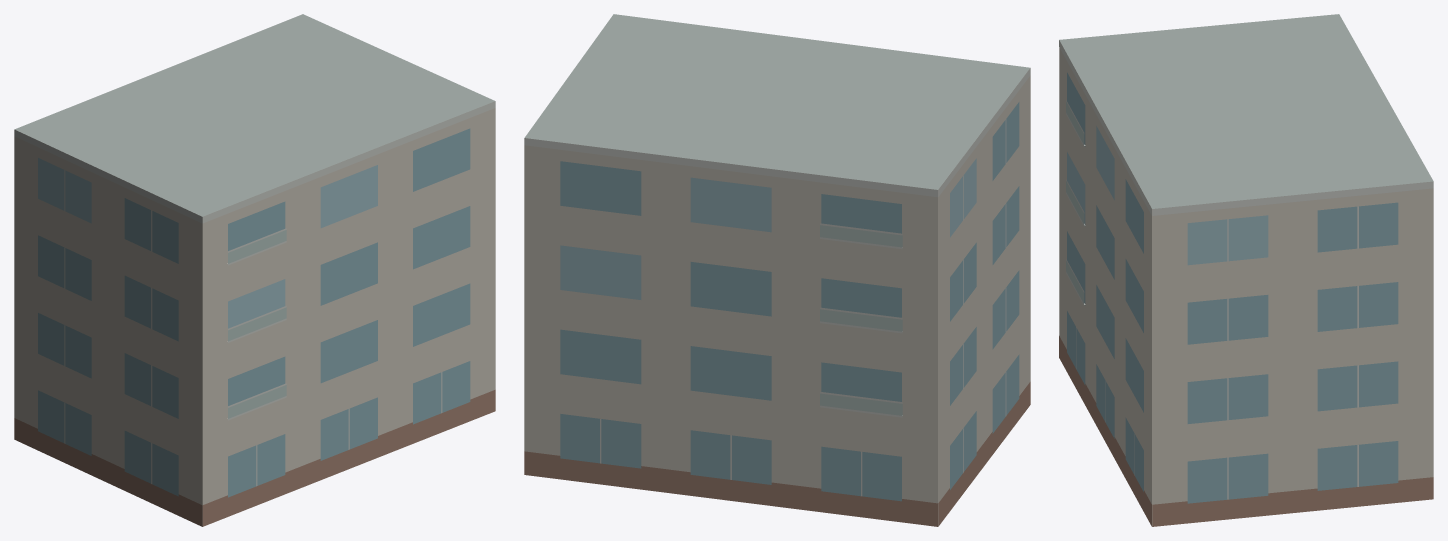
Rendered from survey-upis-32664356.glb.
3 renders of one model, left to right at view 1: azimuth 30°, elevation 25°; view 2: azimuth 150°, elevation 25°; view 3: azimuth 270°, elevation 25°, orthographic. The views are drawn at different scales.
Visible parts, largest first — view 1: survey-upis-32664356.tmp; view 2: survey-upis-32664356.tmp; view 3: survey-upis-32664356.tmp.
Boxes of the visible parts, x1,y1,x2,y2 form: survey-upis-32664356.tmp: [14, 14, 495, 526]; survey-upis-32664356.tmp: [524, 14, 1030, 526]; survey-upis-32664356.tmp: [1059, 14, 1433, 526].
Bounding box in the file's own units: 14.75 × 11.2 × 11.97.
